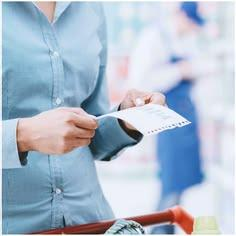receipt-in-hand: (97, 104, 190, 135)
